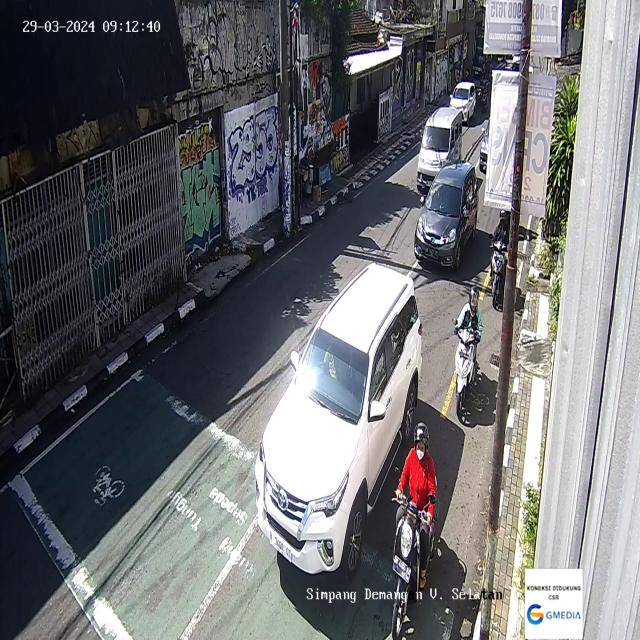car: (254, 261, 423, 575), (413, 160, 479, 270), (416, 106, 463, 196), (449, 80, 476, 124)
motorcycle: (390, 420, 440, 639), (452, 285, 482, 425), (488, 211, 512, 311)
